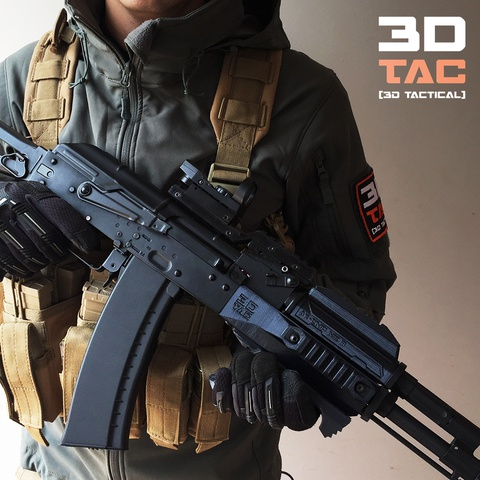ak47: (17, 160, 476, 453)
